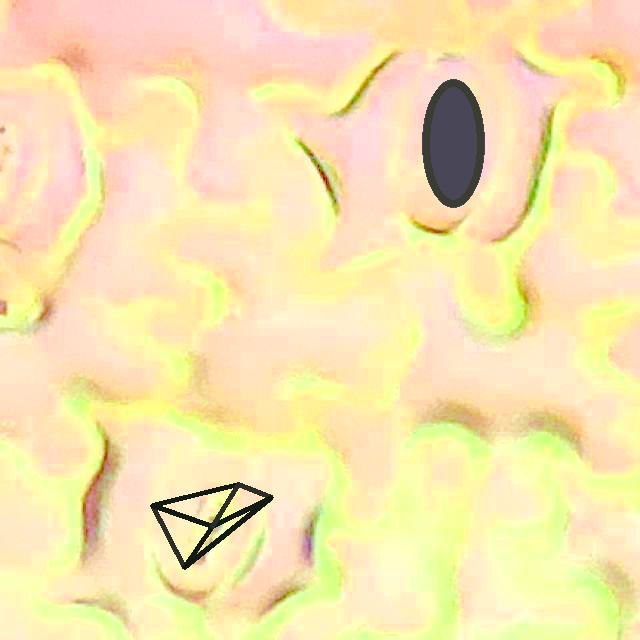open: (150, 482, 273, 569), (422, 79, 484, 207)
